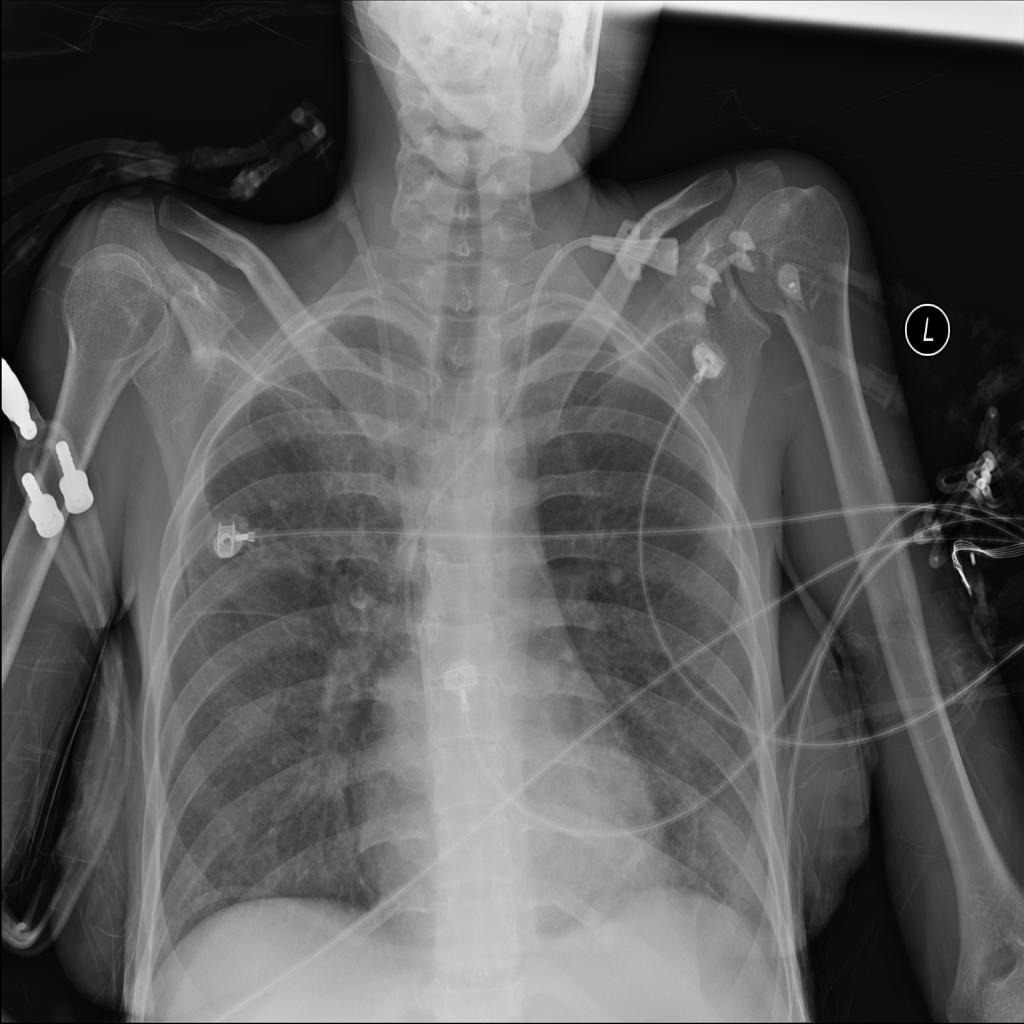nodule: (597, 545, 642, 599)
